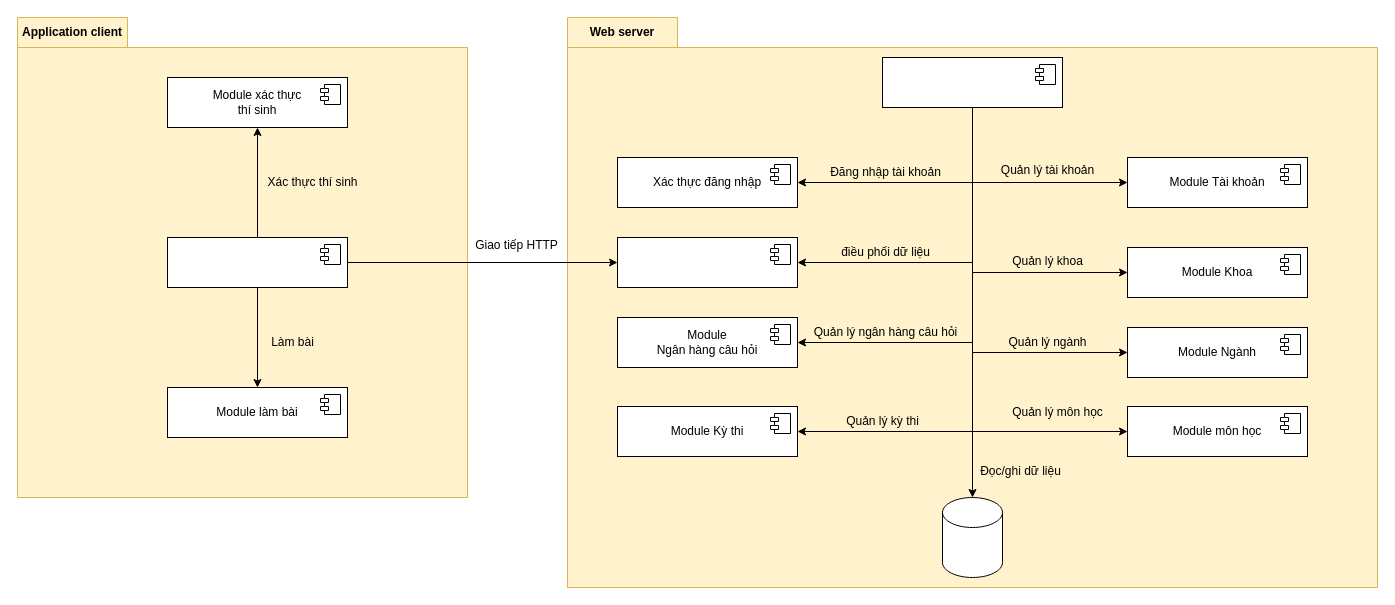
The diagram is 1395 pixels wide and 605 high, and some of its shapes have lost their labels. Here are the shapes that lost their labels. From the top down, the centre of each, then its label:
[972,82]: Ứng dụng PHP
[257,262]: Ứng dụng flutter
[707,262]: dịch vụ API
[972,537]: Cơ sở dữ liệu MySQL
